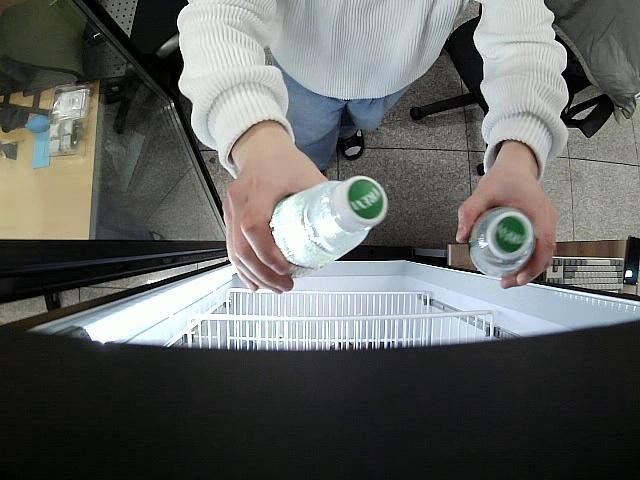18_trevi: (271, 174, 388, 268), (470, 208, 537, 279)
